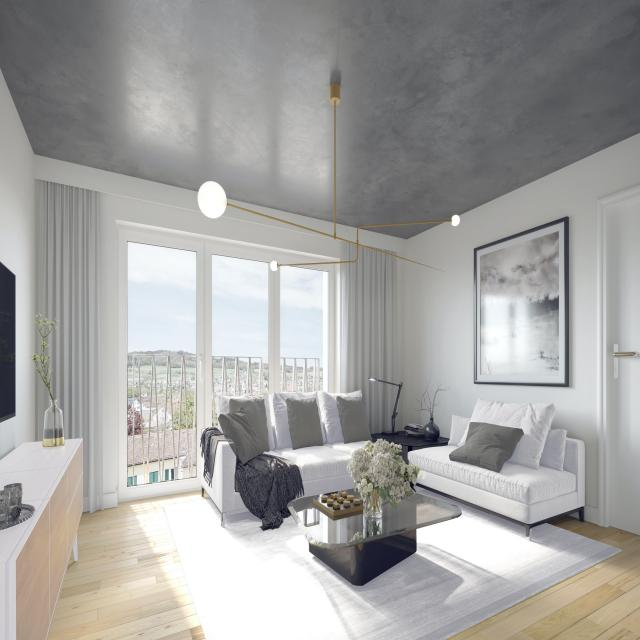white sofa: (214, 391, 522, 546)
